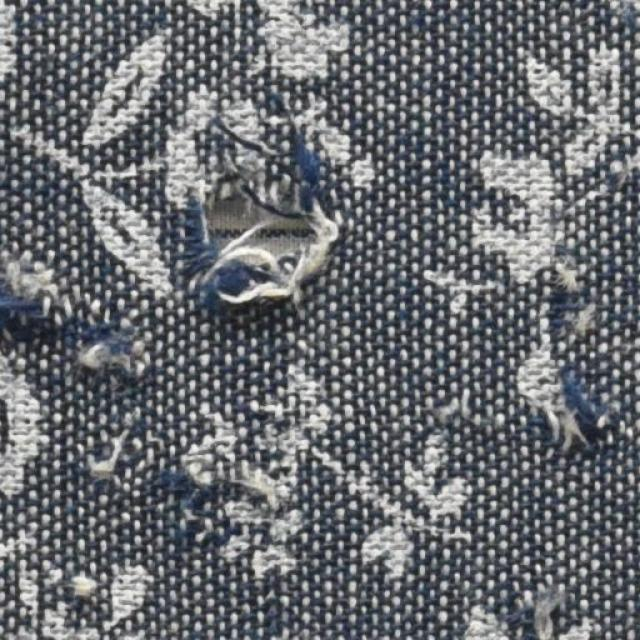Hole: (209, 198, 296, 271)
Snag: (157, 155, 344, 303), (506, 255, 619, 447), (140, 438, 295, 558), (7, 277, 78, 340), (82, 330, 142, 386)
